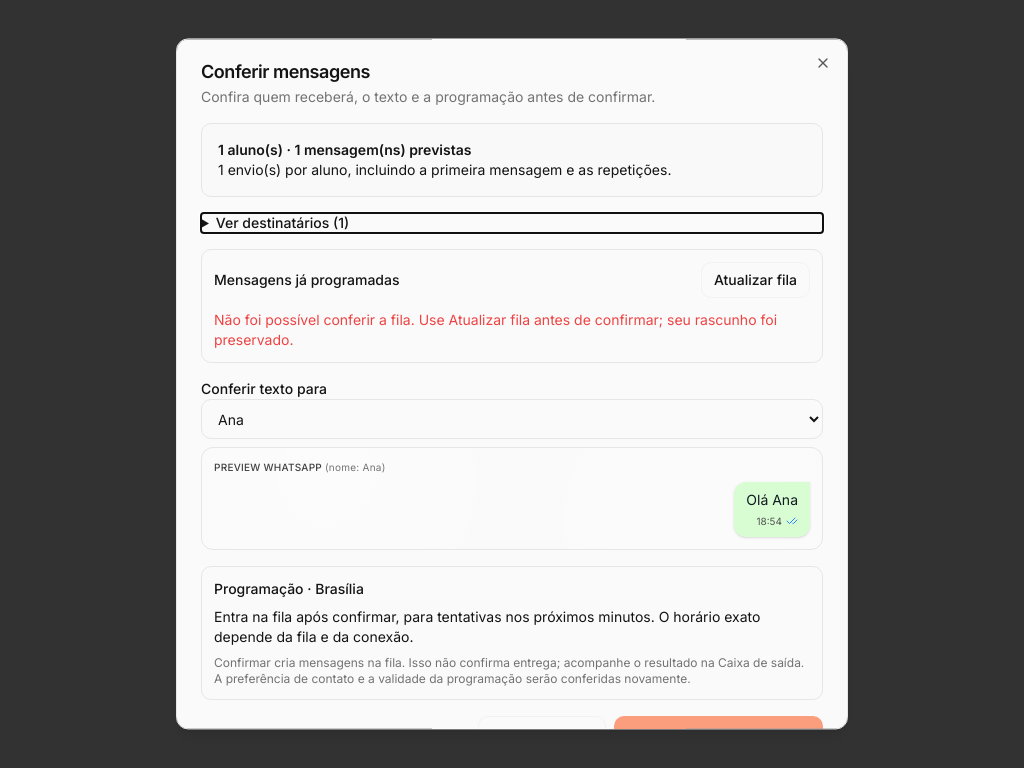
allows retry after query failure without treating failure as an empty queue
Expected: the message shows "Não foi possível conferir a fila", [214,311,777,348]
Expected: the text "Nenhum envio pendente" is not shown
Click the button "Atualizar fila".
click(755, 280)  # box [701,262,810,298]
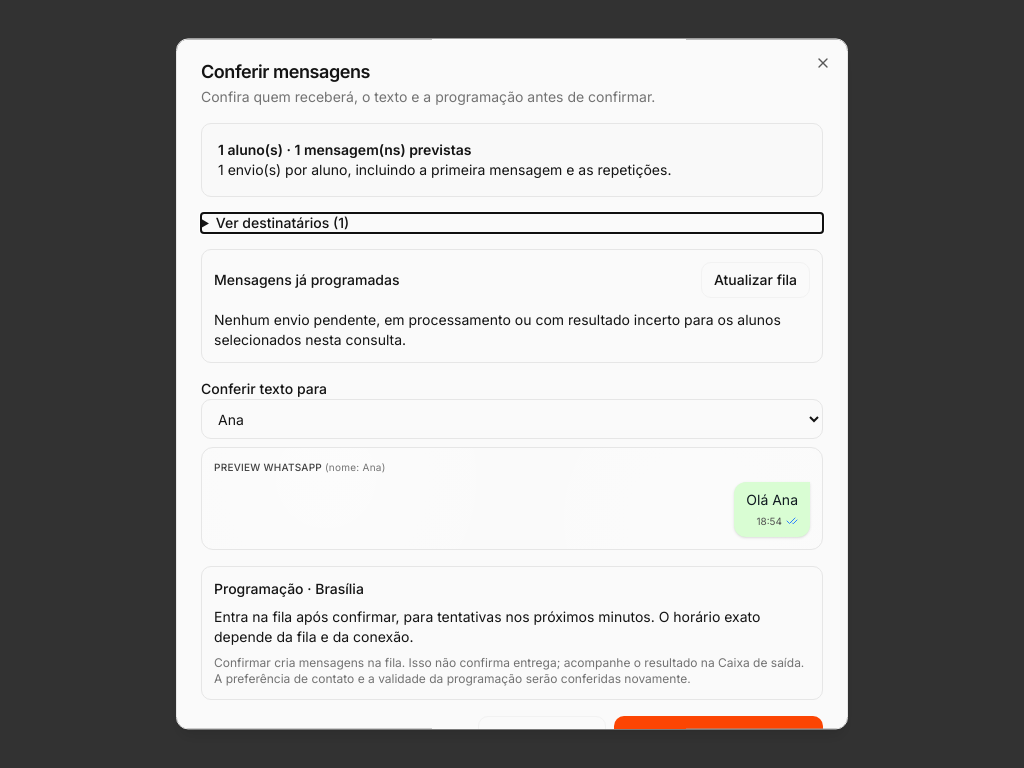
Expected: the text "Nenhum envio pendente" is shown, [214,311,781,348]
